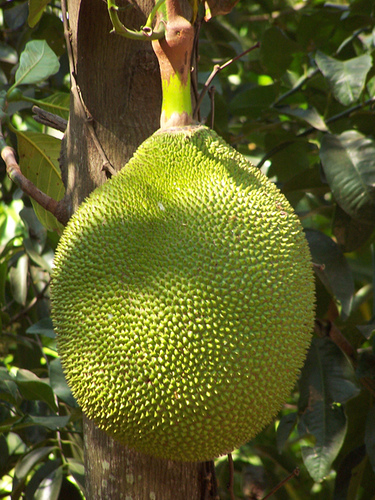jackfruit: (51, 20, 315, 461)
